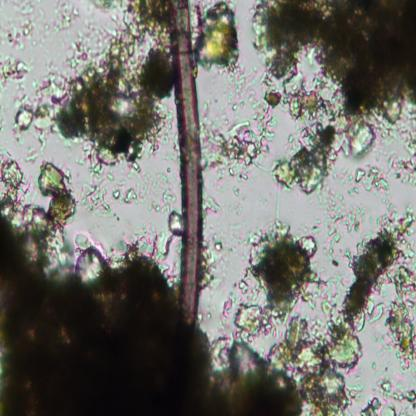Background material: (0, 198, 180, 415), (15, 0, 169, 155), (251, 0, 416, 117), (332, 204, 416, 374), (219, 221, 325, 334), (188, 325, 307, 415), (270, 73, 342, 198), (269, 321, 359, 415), (0, 146, 75, 251), (345, 115, 416, 197), (208, 101, 273, 177), (75, 157, 148, 220), (190, 3, 240, 74), (0, 0, 46, 54), (360, 374, 416, 414), (322, 188, 362, 244), (146, 160, 176, 216), (0, 53, 29, 87), (53, 3, 81, 36), (202, 190, 222, 223), (203, 232, 226, 259), (228, 188, 243, 218)
Microfibre: (170, 0, 202, 320)
